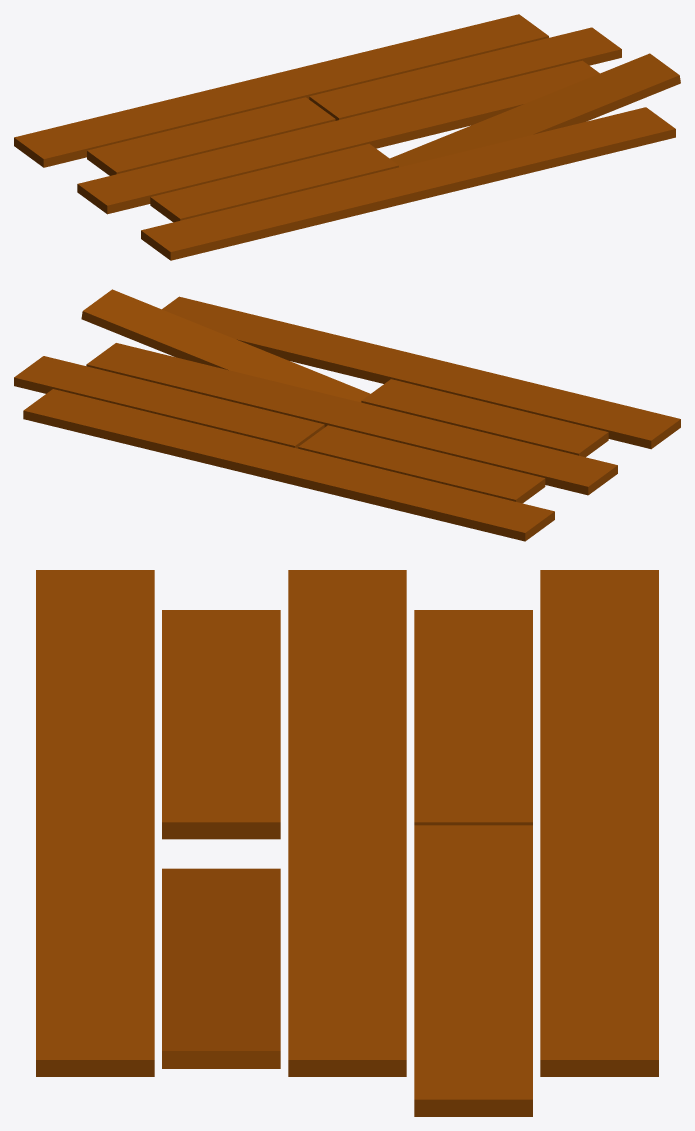
Rendered from RPG_Tiles_Square_Wooden_Boards_Double_01.FBX.
3 renders of one model, top to bottom at view 1: azimuth 30°, elevation 25°; view 2: azimuth 150°, elevation 25°; view 3: azimuth 270°, elevation 25°, orthographic. The views are drawn at different scales.
Visible parts, largest first — view 1: RPG_Tiles_Square_Wooden_Boards_Double_01; view 2: RPG_Tiles_Square_Wooden_Boards_Double_01; view 3: RPG_Tiles_Square_Wooden_Boards_Double_01.
Boxes of the visible parts, left/top/right/bottom form: RPG_Tiles_Square_Wooden_Boards_Double_01: left=14, top=14, right=680, bottom=260; RPG_Tiles_Square_Wooden_Boards_Double_01: left=14, top=289, right=680, bottom=541; RPG_Tiles_Square_Wooden_Boards_Double_01: left=36, top=570, right=658, bottom=1116.
Bounding box in the file's own units: 5964 × 556 × 2964.
